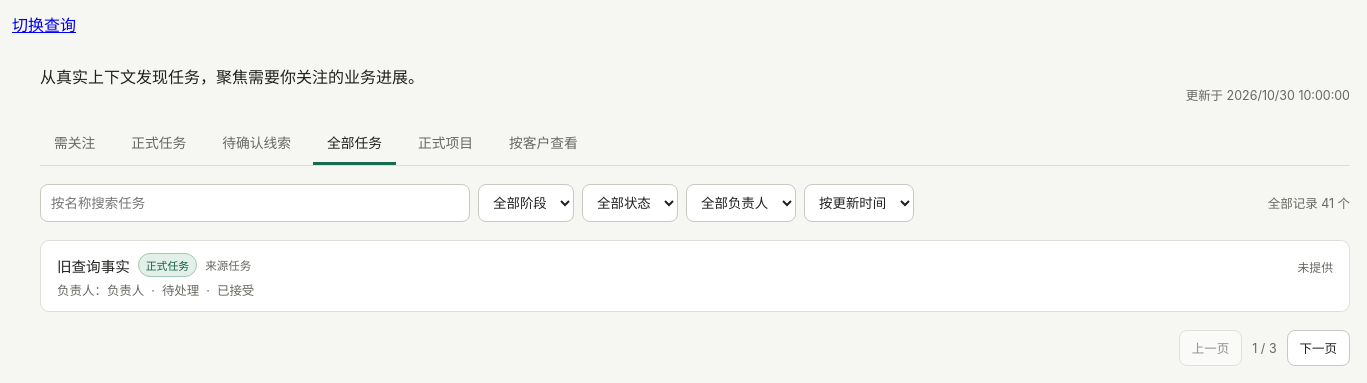
Test: /tasks?view=all&q=new clears old rows/count/pagination in the query commit
Expected: the link "旧查询事实" is shown, [57,254,130,276]
Click the link "切换查询".
click(44, 25)  # box [12,15,76,35]
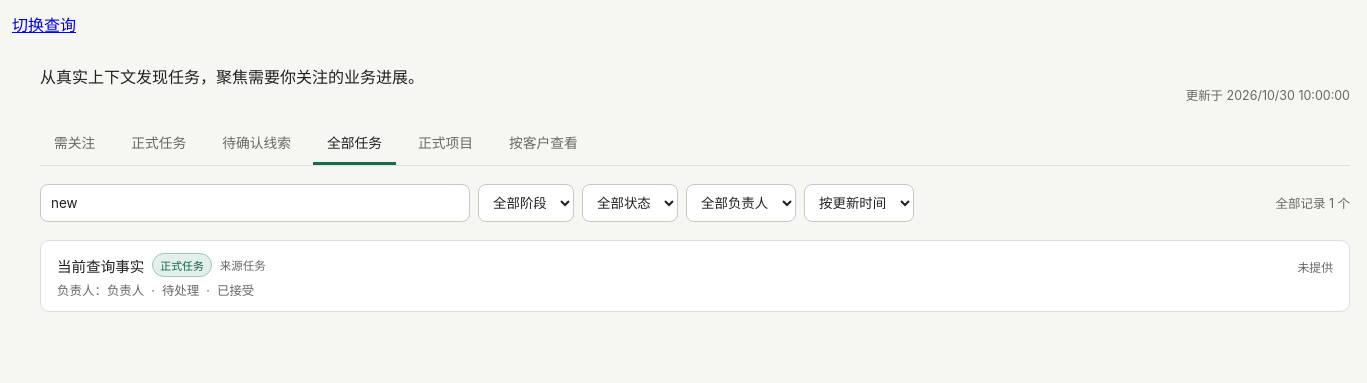
Result: the text "旧查询事实" is gone
Result: the text "41" is gone
Result: the link "旧查询事实" is gone
